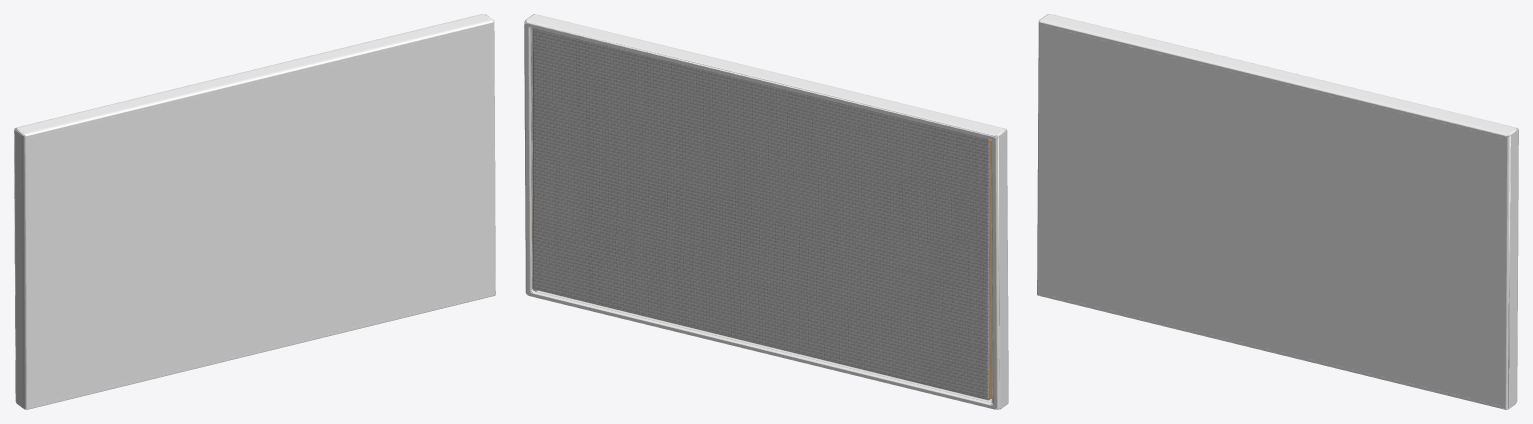
The model's file is canvas-landscape-2.glb.
The picture shows the model from 3 angles, left to right: view 1: azimuth 30°, elevation 25°; view 2: azimuth 150°, elevation 25°; view 3: azimuth 330°, elevation 25°; orthographic projection.
Parts seen in each view (by area): view 1: canvas-print_0.009; view 2: canvas-print_0.009; view 3: canvas-print_0.009.
Boxes of the visible parts, x1,y1,x2,y2 form: canvas-print_0.009: (14, 14, 495, 409); canvas-print_0.009: (524, 14, 1008, 409); canvas-print_0.009: (1037, 14, 1518, 409).
Size of the model in its own units: 1.44 by 0.8021 by 0.068.
Materials: 2 (2 with a texture image).
